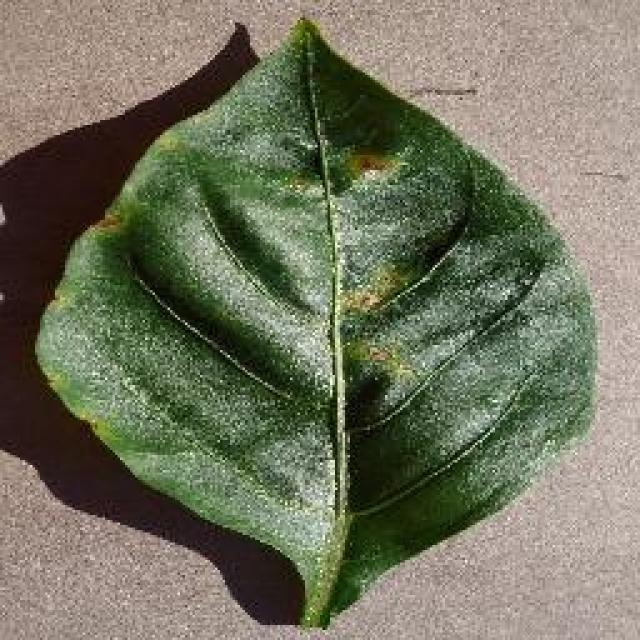Chilli_Bacterial_Spot: (30, 12, 602, 630), (270, 137, 422, 405), (332, 255, 420, 395), (268, 140, 408, 200), (335, 258, 415, 318), (340, 332, 418, 392), (340, 140, 402, 182), (270, 165, 320, 197)
